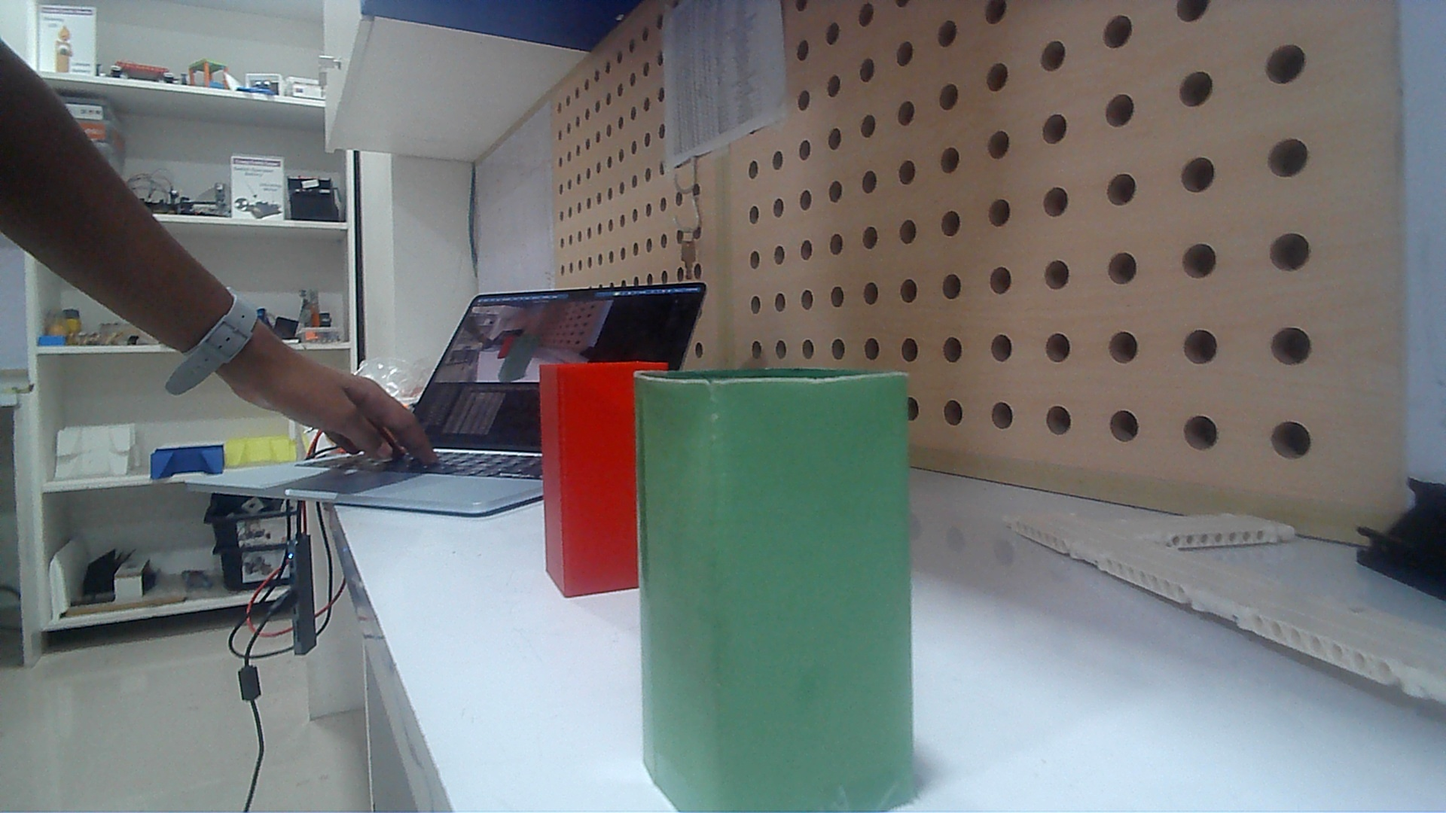green: (638, 366, 908, 811)
